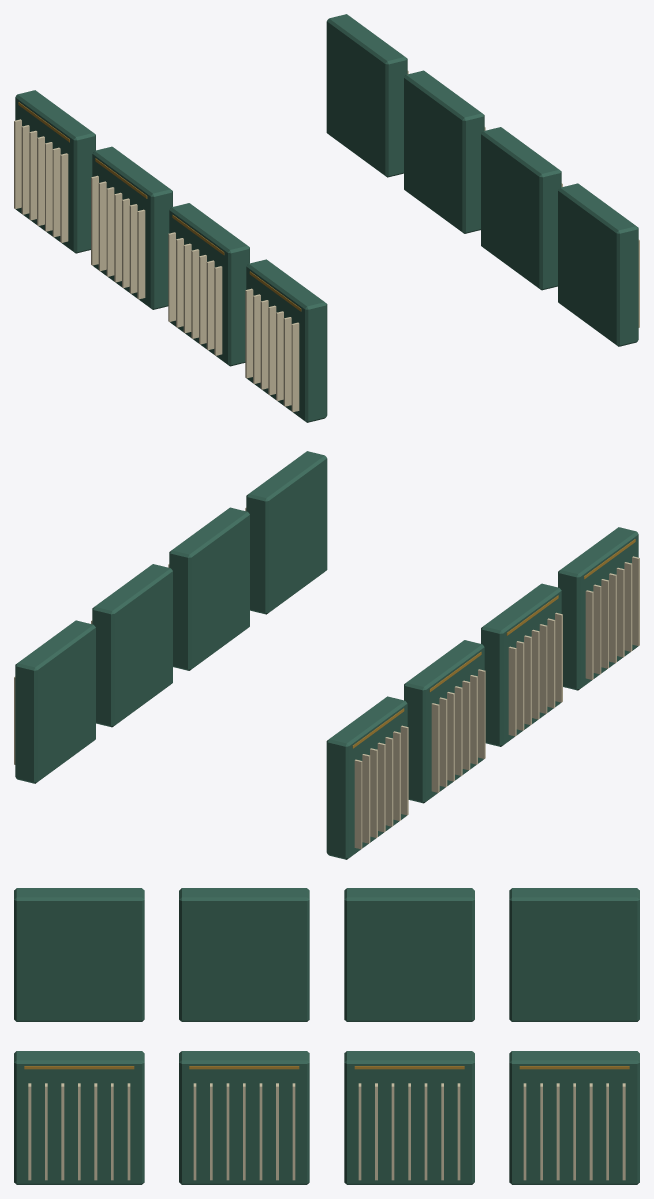
File: vls8_cell_thermal.obj
3 renders of one model, top to bottom at view 1: azimuth 30°, elevation 25°; view 2: azimuth 150°, elevation 25°; view 3: azimuth 270°, elevation 25°, orthographic. The views are drawn at different scales.
Parts seen in each view (by area): view 1: vls8_cell_thermal; view 2: vls8_cell_thermal; view 3: vls8_cell_thermal.
Part boxes in pixels (x1=…): vls8_cell_thermal: x1=14, y1=14, x2=639, y2=422; vls8_cell_thermal: x1=14, y1=451, x2=639, y2=859; vls8_cell_thermal: x1=14, y1=888, x2=639, y2=1184.
Size of the model in its own units: 3.12 by 1 by 4.55.
